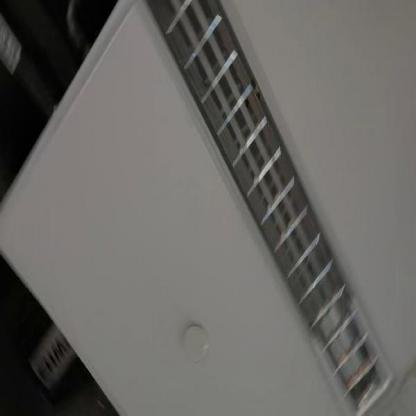light_off: (119, 5, 399, 415)
